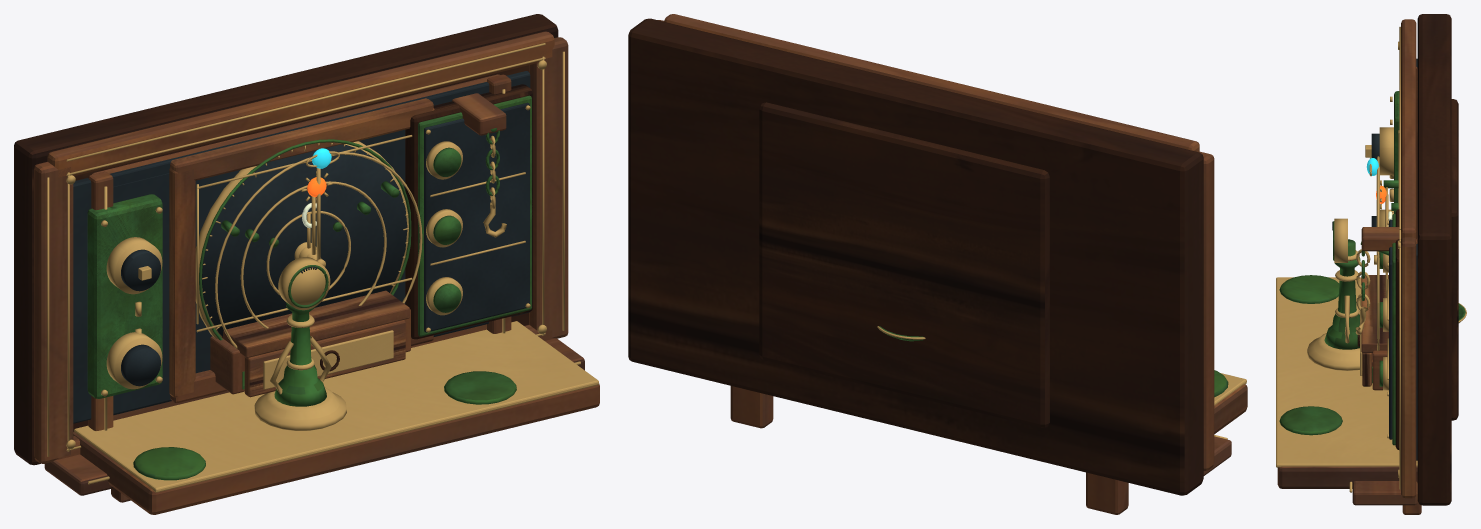
Rendered from calibration-kit.glb.
The picture shows the model from 3 angles, left to right: view 1: azimuth 30°, elevation 25°; view 2: azimuth 150°, elevation 25°; view 3: azimuth 270°, elevation 25°; orthographic projection. The views are drawn at different scales.
Visible parts, largest first — view 1: AssayCase_Visual, CalibrationFrame_Visual, OrreryConsole_Visual, OrreryBed_Visual, ChartCabinet_Visual, OrreryDrive_Visual, ChartDrawer_Visual, OrreryOuter_Visual, OrreryMiddle_Visual, AssayHanger_Visual, OrreryInner_Visual; view 2: CalibrationFrame_Visual, ChartCabinet_Visual, AssayCase_Visual; view 3: CalibrationFrame_Visual, AssayCase_Visual, ChartCabinet_Visual, OrreryConsole_Visual, OrreryDrive_Visual, OrreryOuter_Visual, AssayHanger_Visual, ChartDrawer_Visual, OrreryMiddle_Visual.
Boxes of the visible parts, x1,y1,x2,y2 form: AssayCase_Visual: (73, 74, 599, 514); CalibrationFrame_Visual: (14, 14, 584, 495); OrreryConsole_Visual: (405, 84, 532, 339); OrreryBed_Visual: (195, 139, 411, 340); ChartCabinet_Visual: (169, 98, 434, 402); OrreryDrive_Visual: (87, 194, 162, 398); ChartDrawer_Visual: (244, 320, 405, 397); OrreryOuter_Visual: (215, 148, 422, 348); OrreryMiddle_Visual: (240, 171, 386, 328); AssayHanger_Visual: (483, 130, 506, 237); OrreryInner_Visual: (266, 203, 350, 294); CalibrationFrame_Visual: (628, 14, 1231, 495); ChartCabinet_Visual: (759, 102, 1049, 427); AssayCase_Visual: (730, 370, 1247, 514); CalibrationFrame_Visual: (1349, 14, 1451, 505); AssayCase_Visual: (1276, 67, 1421, 514); ChartCabinet_Visual: (1361, 99, 1458, 420); OrreryConsole_Visual: (1379, 209, 1399, 449); OrreryDrive_Visual: (1365, 91, 1399, 226); OrreryOuter_Visual: (1366, 156, 1379, 350); AssayHanger_Visual: (1355, 249, 1370, 334); ChartDrawer_Visual: (1357, 298, 1372, 386); OrreryMiddle_Visual: (1376, 180, 1388, 297).
Bounding box in the file's own units: 1.55 × 1.02 × 0.5598.
9 materials, 9 textured.
